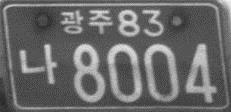0: (107, 42, 142, 104), (143, 43, 179, 103)
3: (141, 8, 165, 38)
4: (183, 41, 217, 104)
8: (72, 42, 106, 103), (117, 8, 140, 38)
광주_O: (58, 8, 113, 36)
나: (17, 43, 58, 87)
